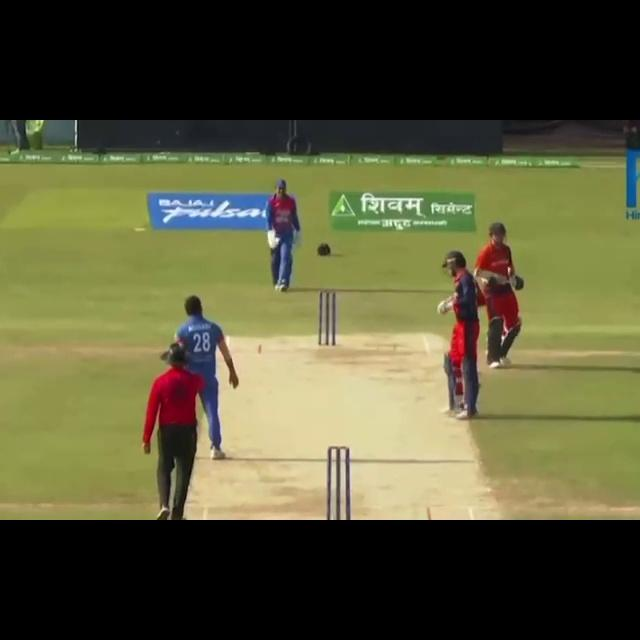umpire: (138, 338, 209, 520)
